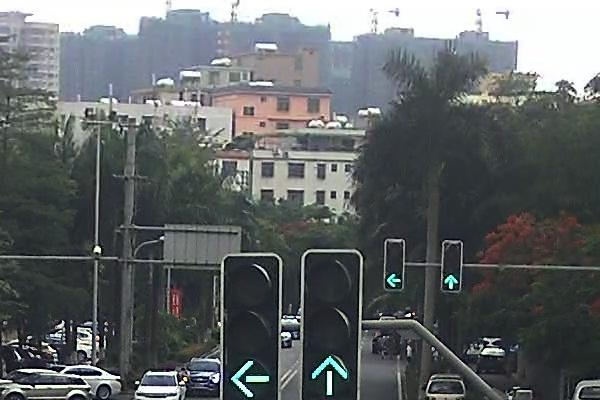greenleft: (228, 359, 271, 399), (384, 273, 403, 289)
greenstraight: (310, 351, 351, 399), (443, 272, 460, 291)
